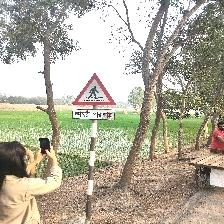Pedestrian-crossing: (70, 73, 118, 121)
